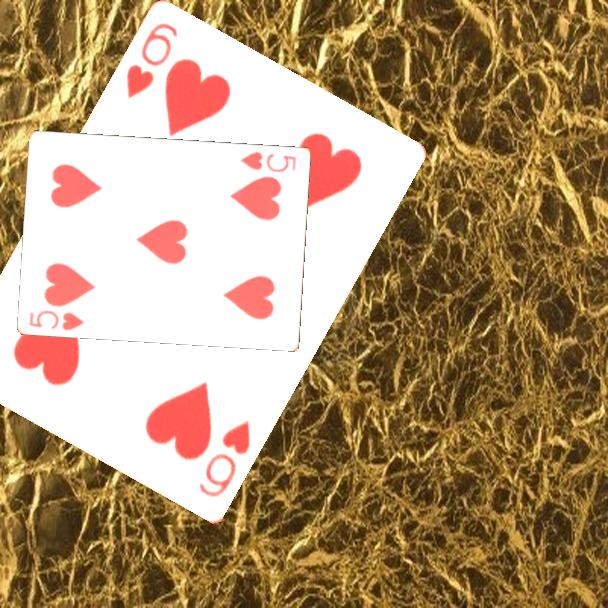h05: (237, 148, 299, 175), (26, 306, 87, 333)
h06: (122, 20, 182, 103), (195, 417, 254, 501)
